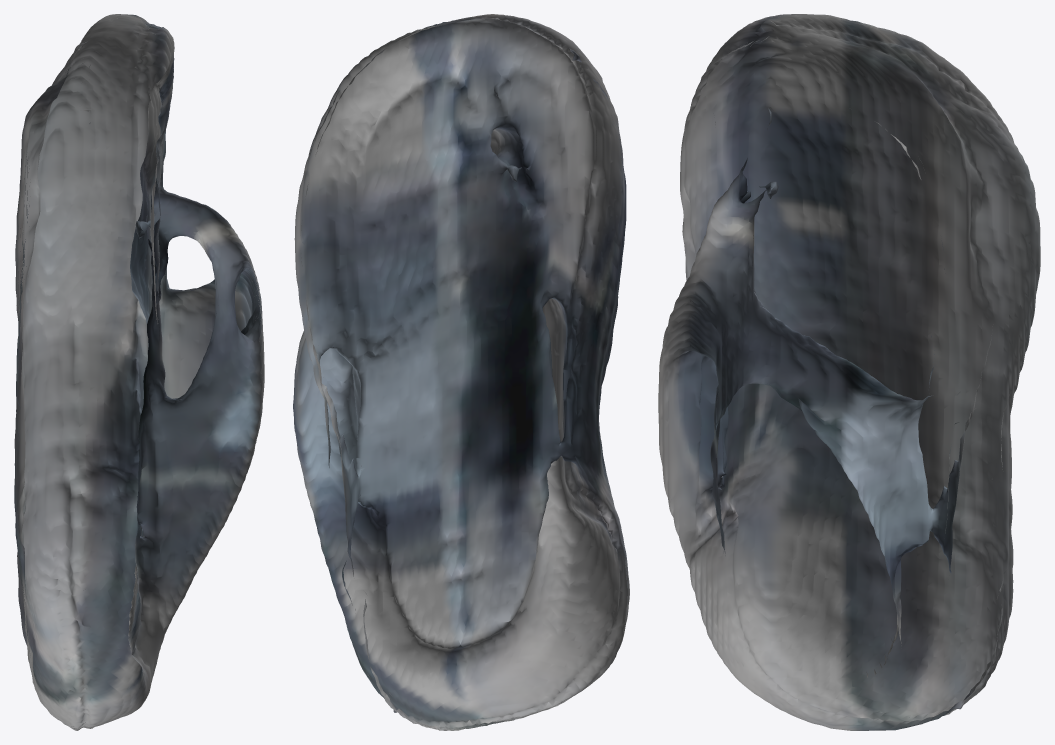
File: fused_mesh.glb
3 views of the same model, side by side, from view 1: azimuth 30°, elevation 25°; view 2: azimuth 150°, elevation 25°; view 3: azimuth 270°, elevation 25° (orthographic). The views are drawn at different scales.
Visible parts, largest first — view 1: world; view 2: world; view 3: world.
Boxes of the visible parts, x1,y1,x2,y2 form: world: (14,14,264,730); world: (293,14,629,730); world: (658,14,1040,730).
Bounding box in the file's own units: 0.4065 × 0.9995 × 0.4819.
